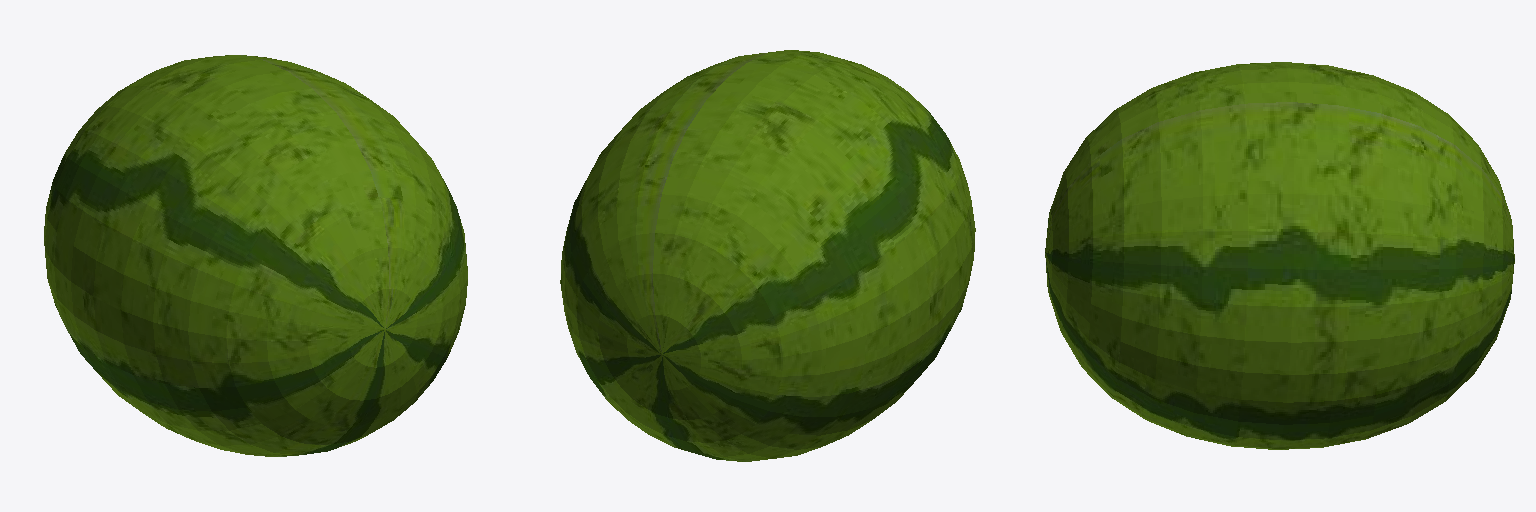
3 views of the same model, side by side, from view 1: azimuth 30°, elevation 25°; view 2: azimuth 150°, elevation 25°; view 3: azimuth 270°, elevation 25° (orthographic).
Visible parts, largest first — view 1: Sphere01; view 2: Sphere01; view 3: Sphere01.
Part boxes in pixels (left/top/right/bottom): Sphere01: left=44, top=55, right=467, bottom=456; Sphere01: left=560, top=50, right=975, bottom=461; Sphere01: left=1045, top=62, right=1514, bottom=449.
Bounding box in the file's own units: 71.53 × 71.57 × 86.49.
1 materials, 1 textured.